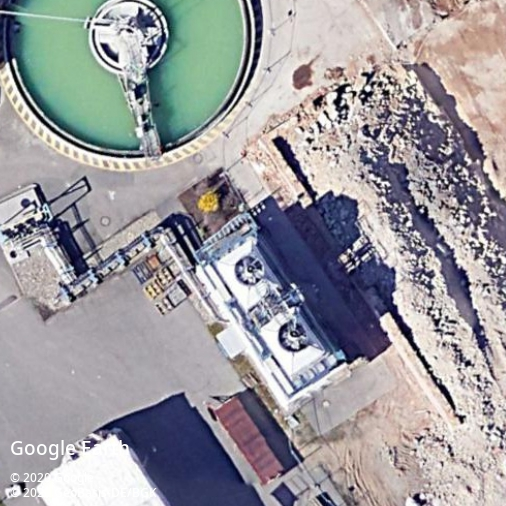Vent: (278, 321, 309, 352), (234, 256, 264, 285)
